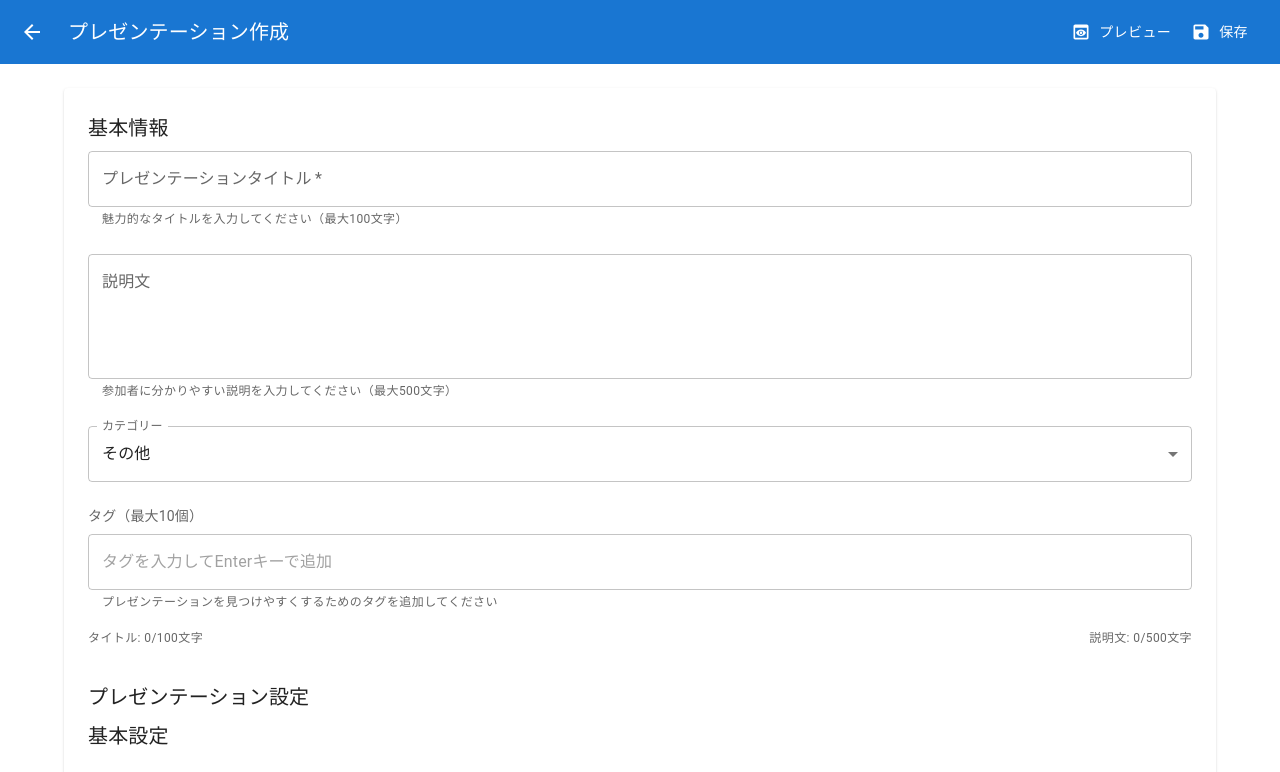
Test: PresentationFormPage › 新規作成モード › プレビューボタンでプレビューが表示される
The image size is (1280, 772).
Step 1. Click the button "プレビュー" → (1123, 32), box [1067,14,1179,50]
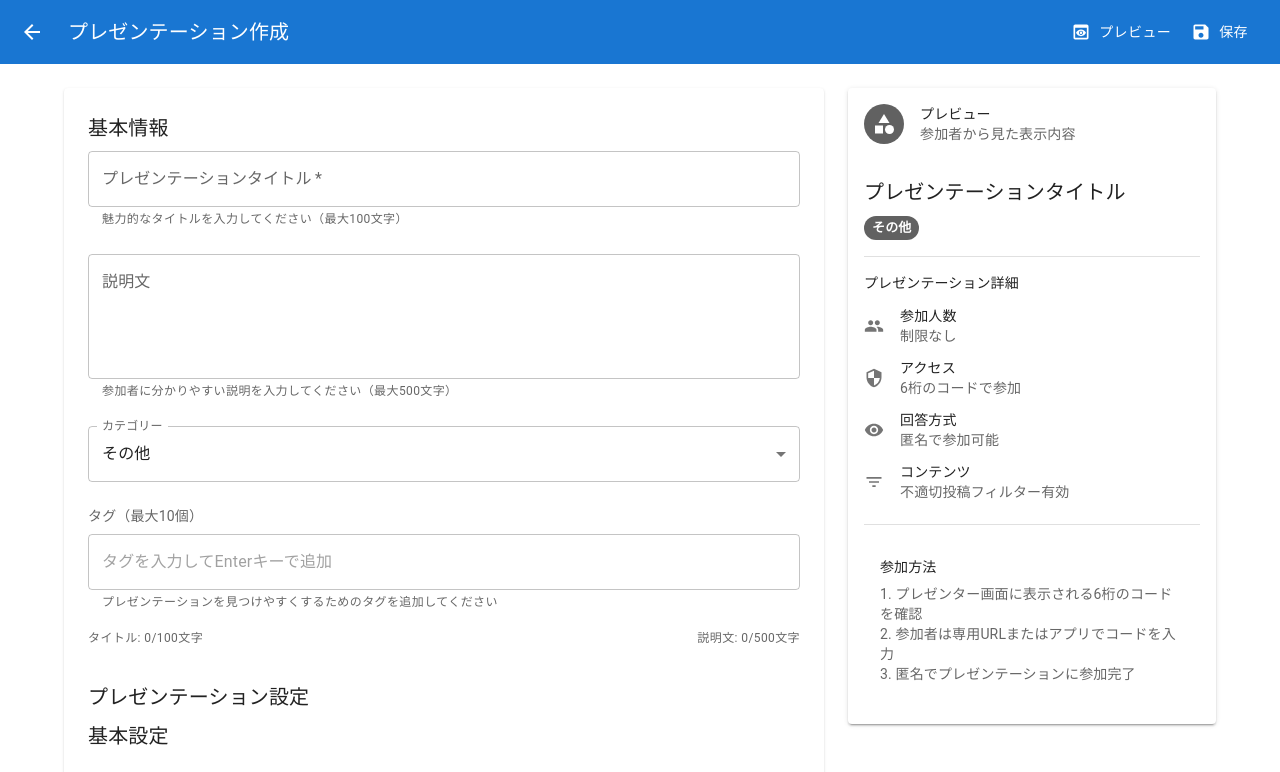
Check: the text "参加者から見た表示内容" is shown, box [920,126,1076,142]
